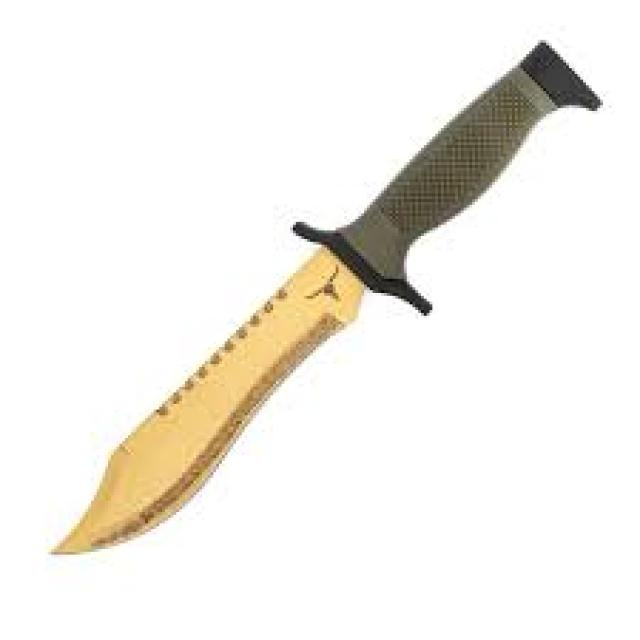knife: (50, 44, 607, 553)
